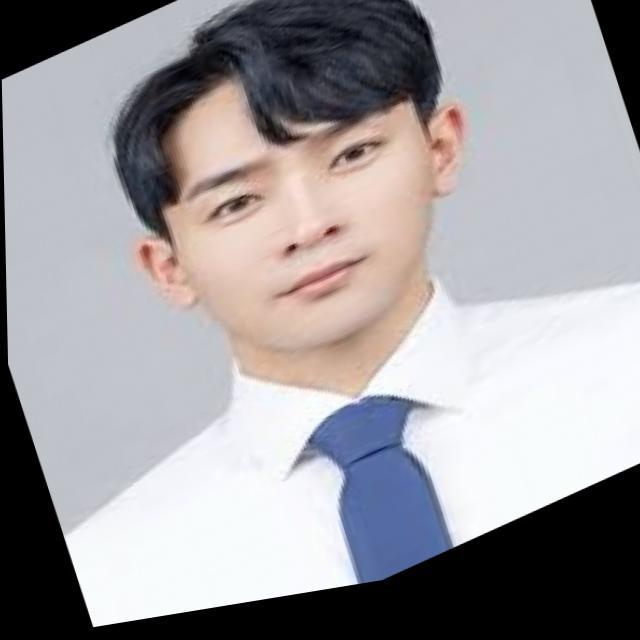Nonhelmet: (105, 1, 471, 355)
